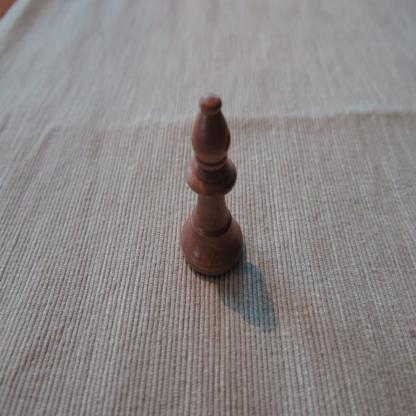white-bishop: (178, 90, 244, 278)
